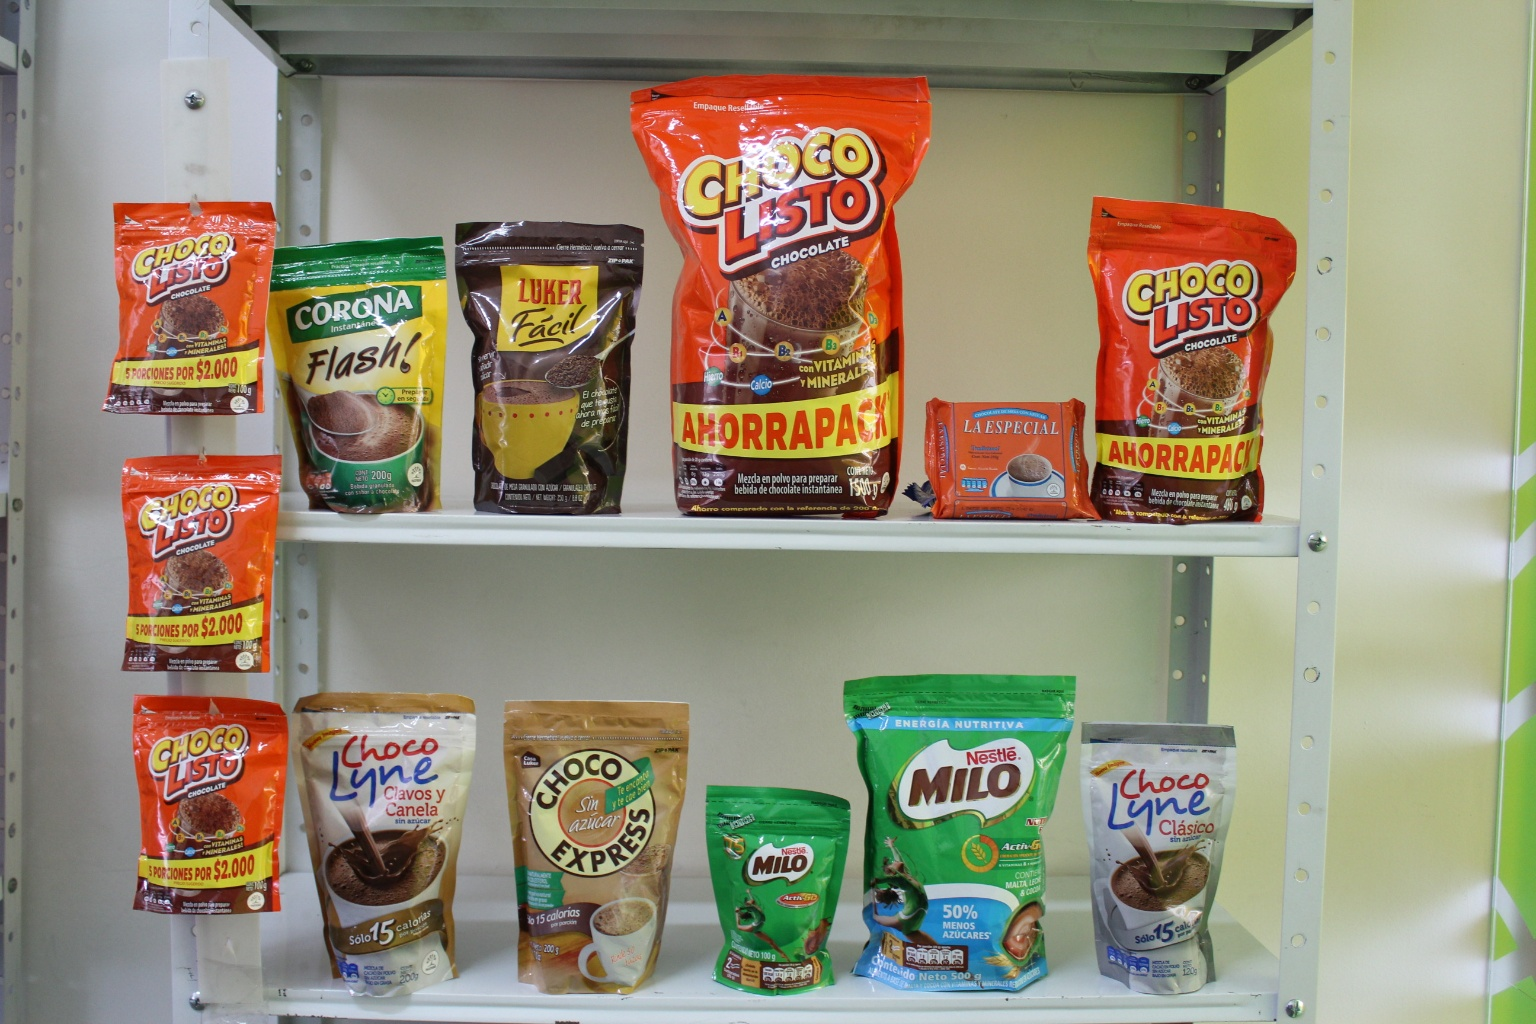COL0170103DYP1,500: (631, 64, 947, 533)
COL0170103DYP10000: (127, 682, 291, 922)
COL0170103DYP40000: (1089, 181, 1296, 518)
COL0170203DYP10000: (701, 783, 856, 998)
COL0170205DYP50000: (837, 654, 1073, 1000)
